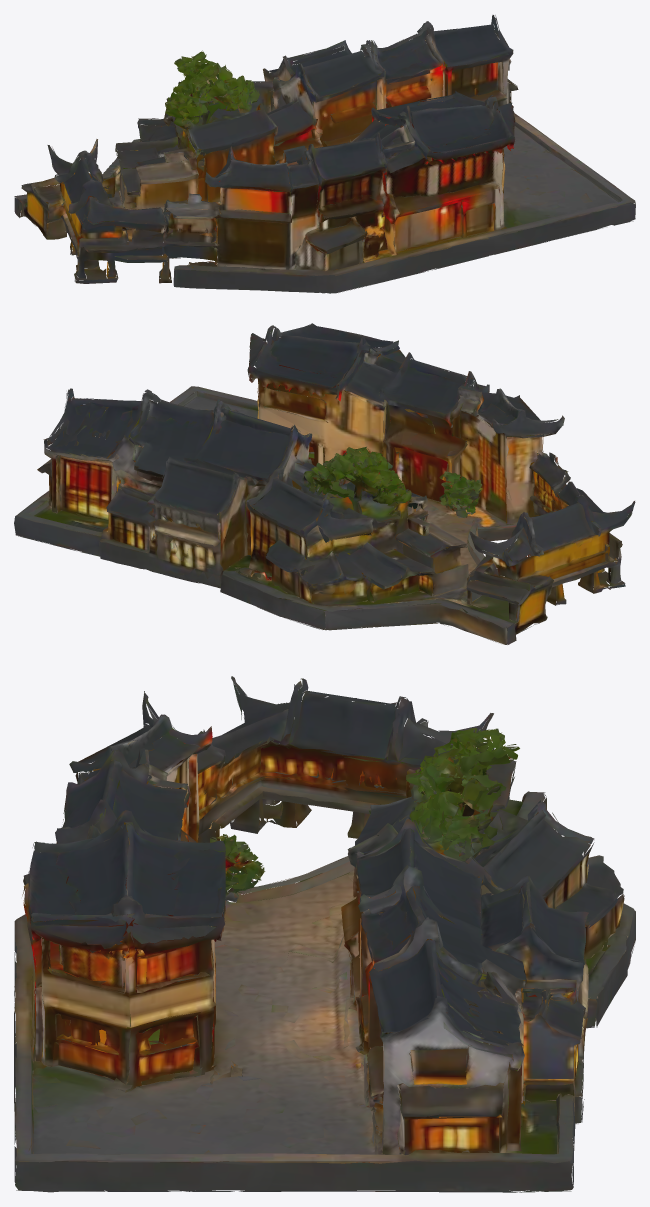
Rendered from yishang-mobile.glb.
3 renders of one model, top to bottom at view 1: azimuth 30°, elevation 25°; view 2: azimuth 150°, elevation 25°; view 3: azimuth 270°, elevation 25°, orthographic. The views are drawn at different scales.
Parts seen in each view (by area): view 1: yishang_lux3d; view 2: yishang_lux3d; view 3: yishang_lux3d.
Part boxes in pixels (x1,y1,x2,y2): yishang_lux3d: (14,15,635,293); yishang_lux3d: (14,323,635,644); yishang_lux3d: (14,676,635,1192).
Bounding box in the file's own units: 6 × 1.63 × 4.04.
1 material, 1 textured.
